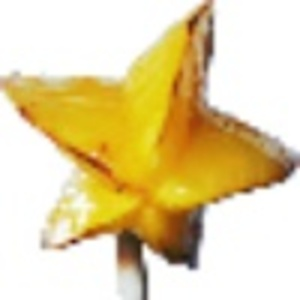carambola: (1, 1, 300, 294)
